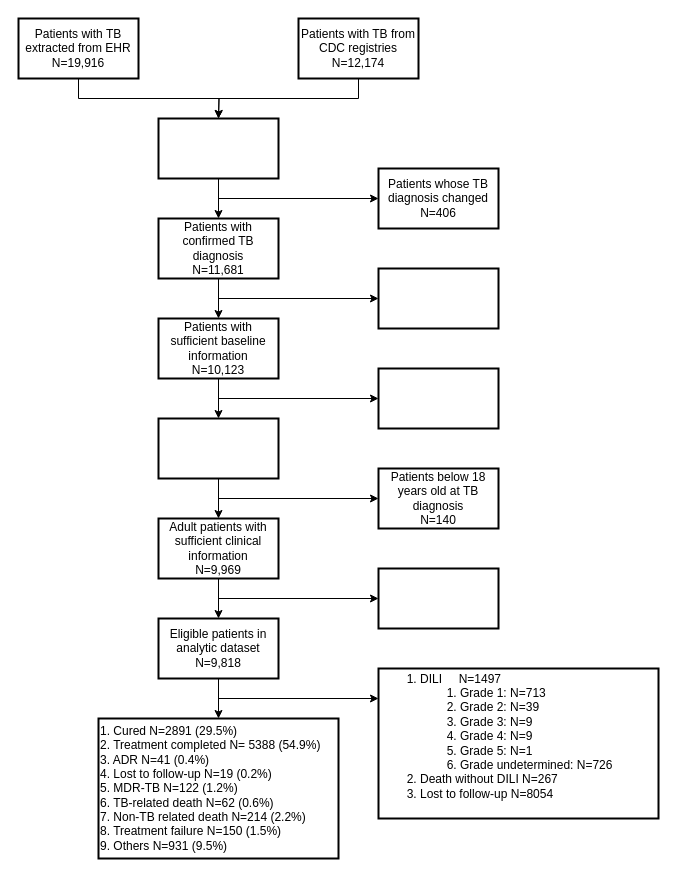
The diagram is 676 pixels wide and 876 high, and some of its shapes have lost their labels. Here are the shapes that lost their labels. From the top down, the centre of each, then its label:
(218,148): Patients linked with both data sources N=12,087
(438,298): Patients without two healthcare encounter at baseline N=1,558
(438,398): Patients at least one healthcare encounter during follow-up N=14
(218,448): Patients with sufficient follow-up information N=10,109
(438,598): Patients with pregnancy during TB treatment N=151
